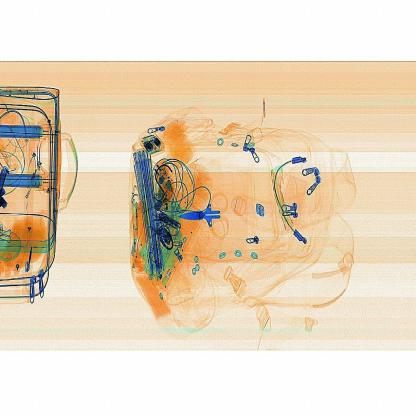gun: (175, 181, 241, 261)
